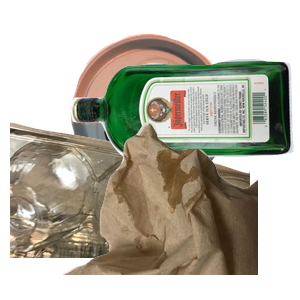glass: (67, 56, 300, 206)
metal: (68, 31, 288, 211)
plastic: (10, 120, 250, 300)
trash: (60, 120, 300, 300)
